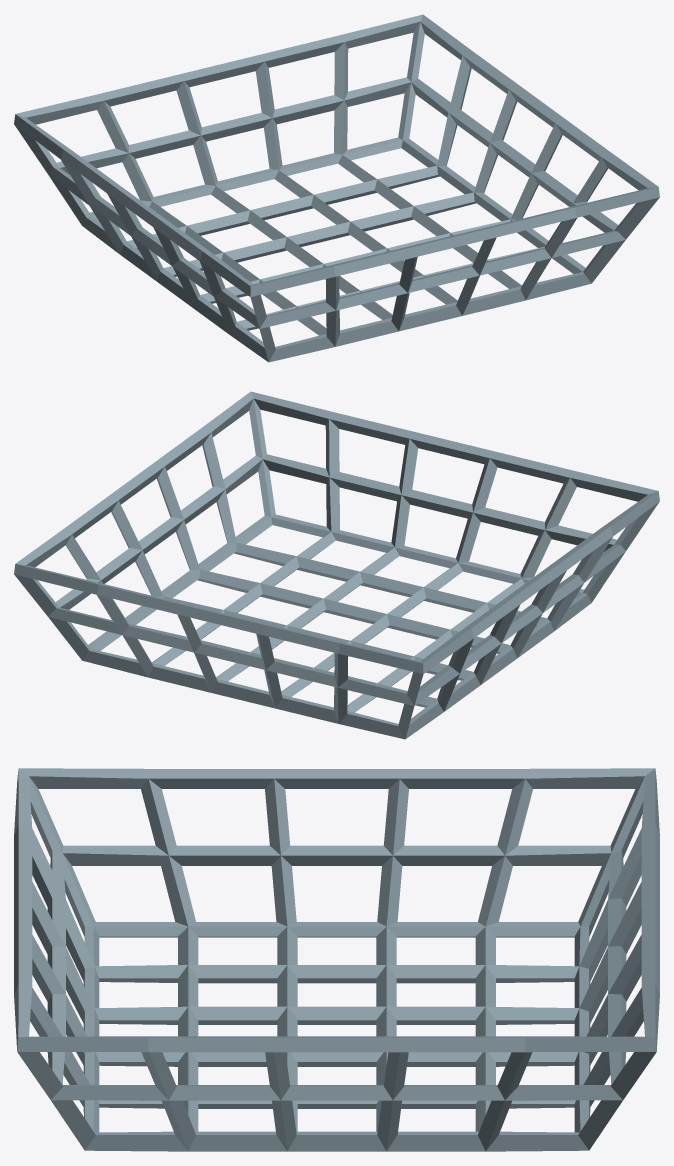
File: File Basket.fbx
3 renders of one model, top to bottom at view 1: azimuth 30°, elevation 25°; view 2: azimuth 150°, elevation 25°; view 3: azimuth 270°, elevation 25°, orthographic. The views are drawn at different scales.
Parts seen in each view (by area): view 1: File Basket; view 2: File Basket; view 3: File Basket.
Part boxes in pixels (bbox=[...]): File Basket: bbox=[14, 14, 659, 362]; File Basket: bbox=[14, 391, 659, 739]; File Basket: bbox=[14, 768, 659, 1151].
Size of the model in its own units: 0.6368 by 0.6368 by 0.1557.
